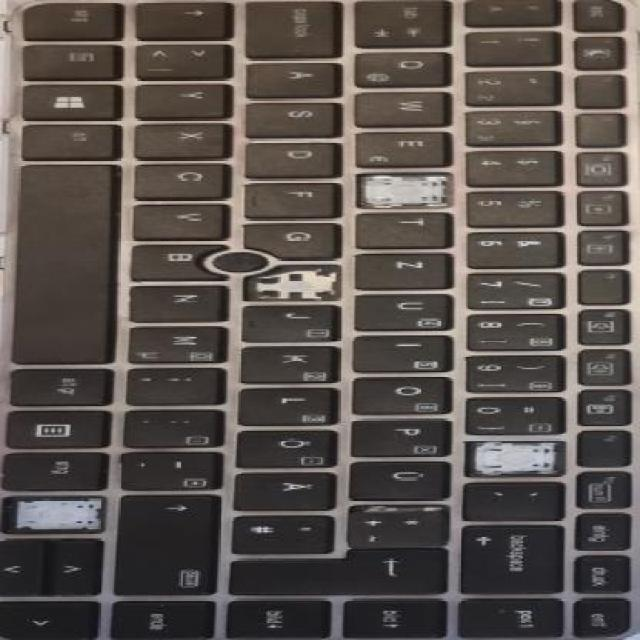Keyboard problems: (231, 265, 342, 298), (466, 440, 563, 475), (8, 497, 103, 531), (357, 174, 451, 208)
